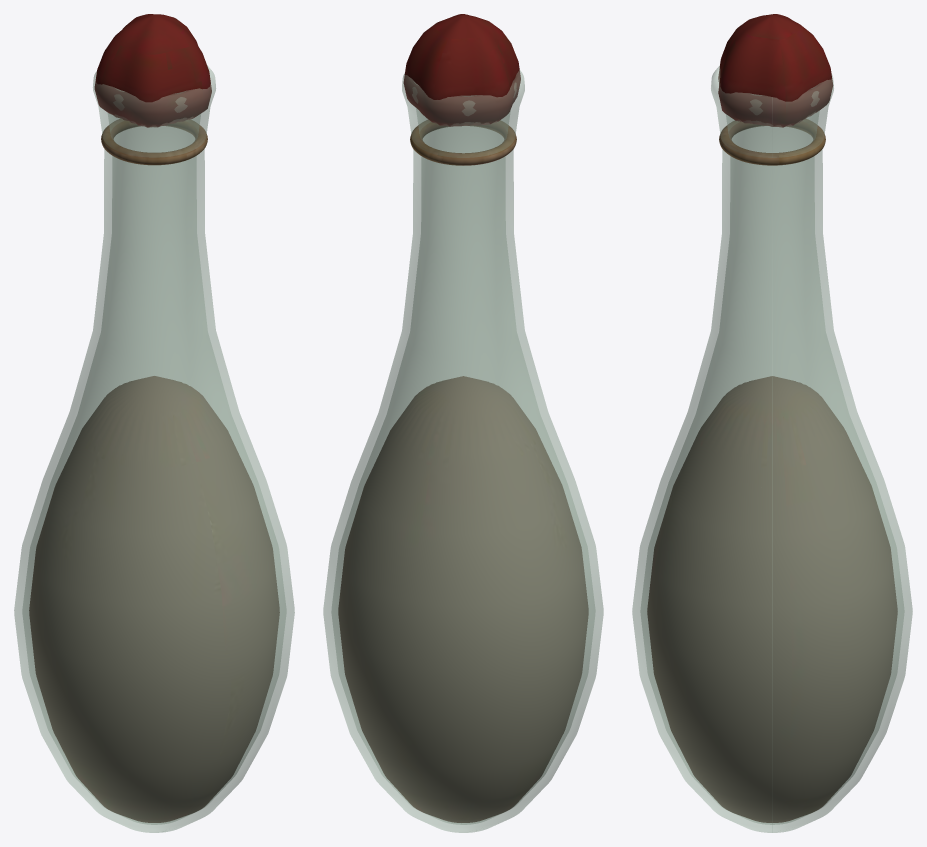
Rendered from poppy_decoction.glb.
The picture shows the model from 3 angles, left to right: view 1: azimuth 30°, elevation 25°; view 2: azimuth 150°, elevation 25°; view 3: azimuth 270°, elevation 25°; orthographic projection.
Parts seen in each view (by area): view 1: glass, poppy_decoction; view 2: glass, poppy_decoction; view 3: glass, poppy_decoction.
Boxes of the visible parts, x1,y1,x2,y2 form: glass: [14, 65, 294, 832]; poppy_decoction: [29, 14, 279, 822]; glass: [323, 70, 603, 832]; poppy_decoction: [338, 14, 588, 822]; glass: [632, 65, 912, 832]; poppy_decoction: [647, 14, 897, 822].
Size of the model in its own units: 0.0533 by 0.1707 by 0.0533.
Materials: 2 (1 with a texture image).
